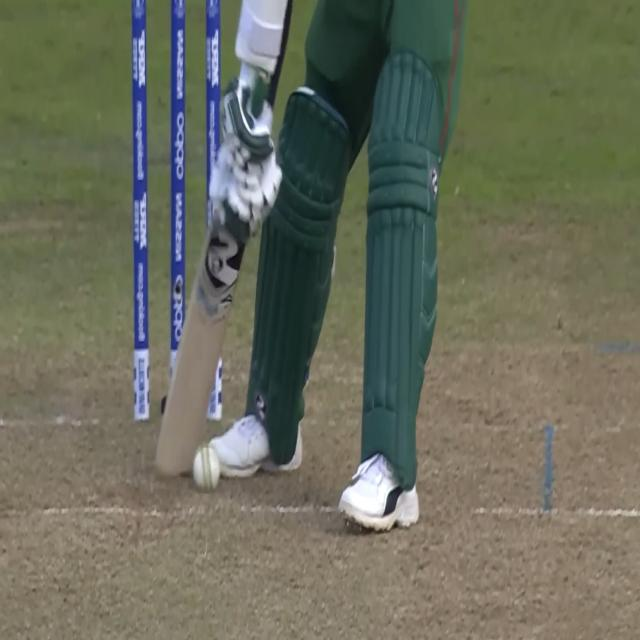ball: (192, 443, 223, 493)
